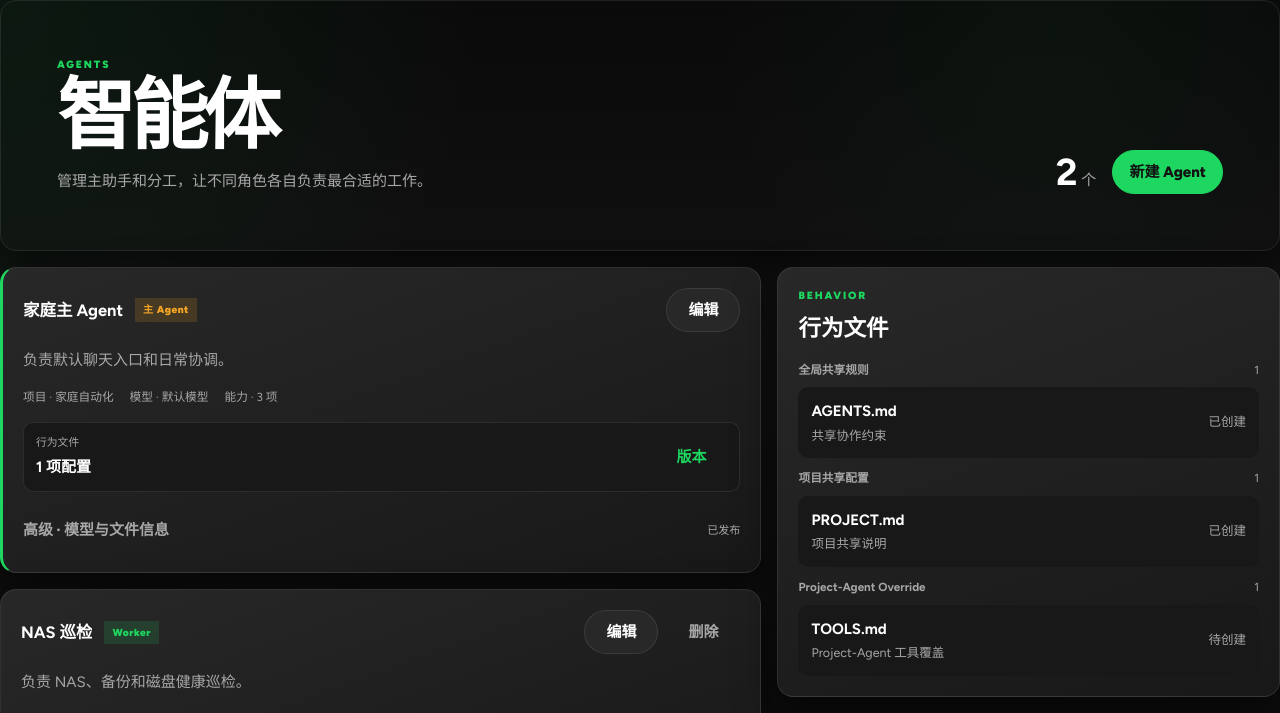
Test case: AgentCenter › 点击新建 Agent 后才展示模板选择，并进入结构化编辑页
Click the button "新建 Agent": {"x": 1168, "y": 172} [1112, 150, 1223, 194]
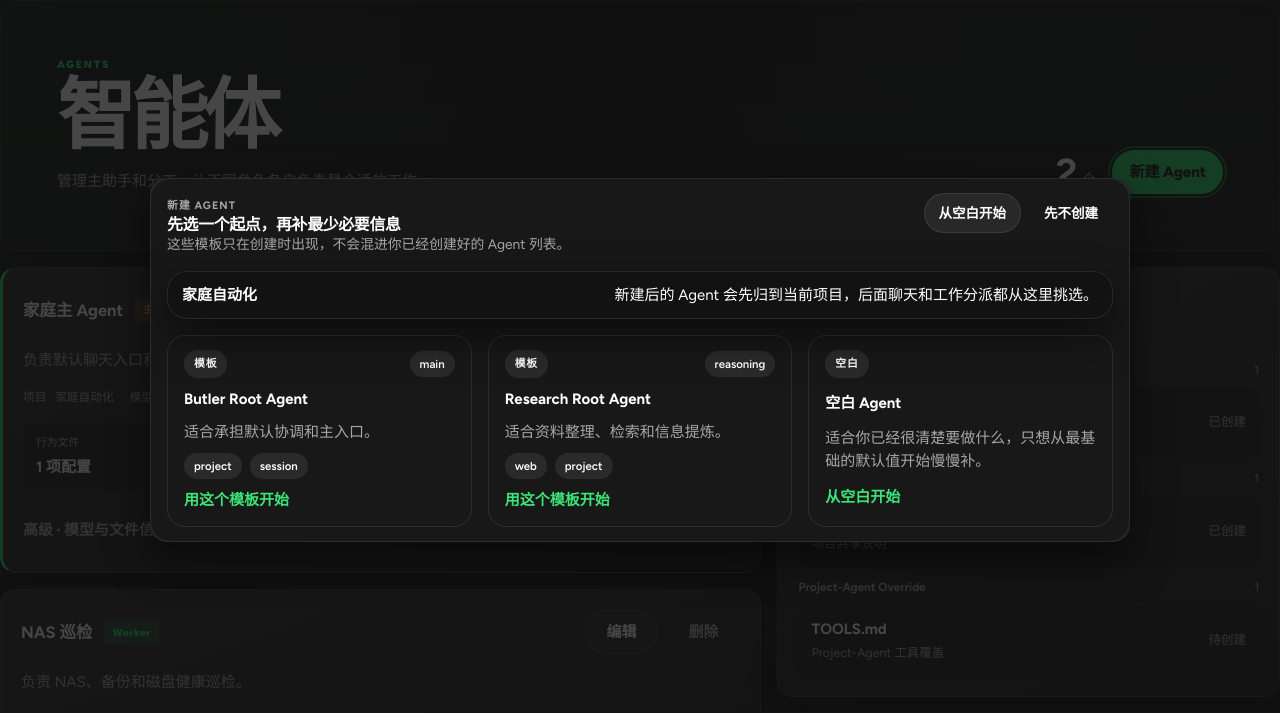
Result: the heading "先选一个起点，再补最少必要信息" is shown at [167, 215, 401, 234]
Result: the button "从空白开始" is shown at [924, 193, 1021, 233]
// 选择当前的主协调模板
Click the button "Butler Root Agent": {"x": 319, "y": 431} [167, 335, 472, 527]
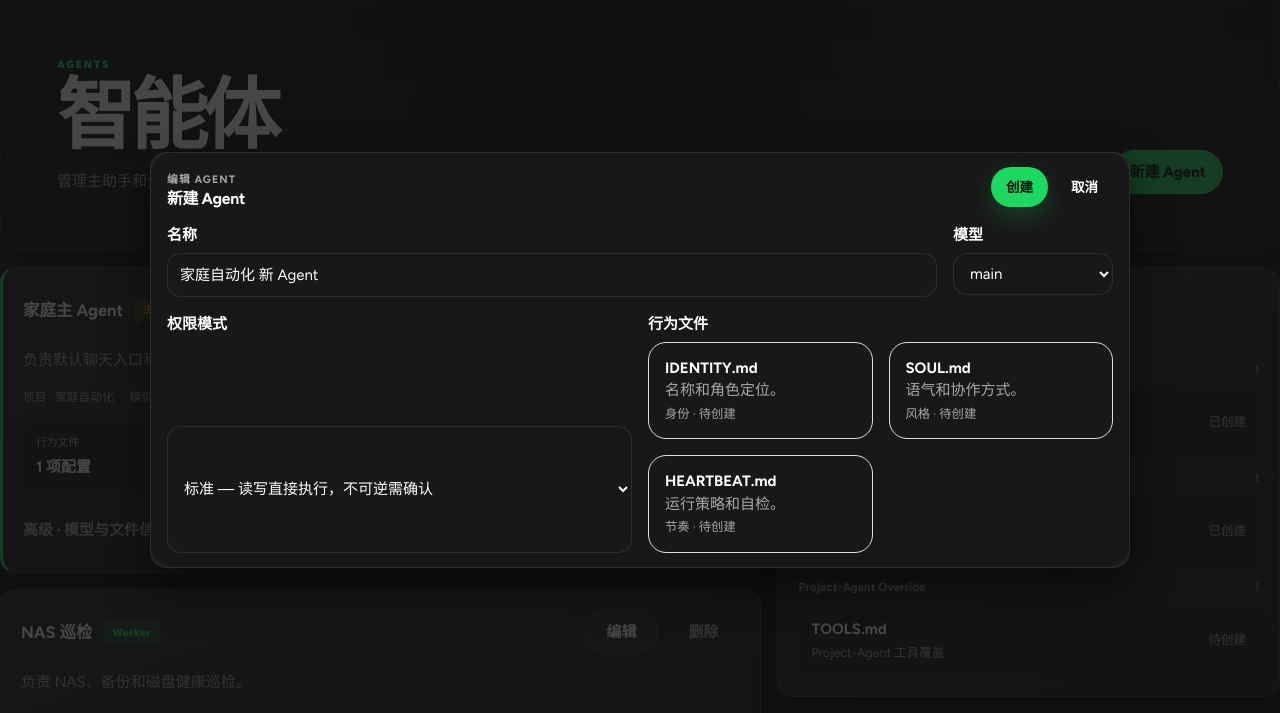
Result: the heading "新建 Agent" is shown at [167, 190, 245, 208]
Result: the field labelled "名称" is shown at [167, 253, 937, 297]
Result: the text "模型" is shown at [953, 226, 983, 244]
